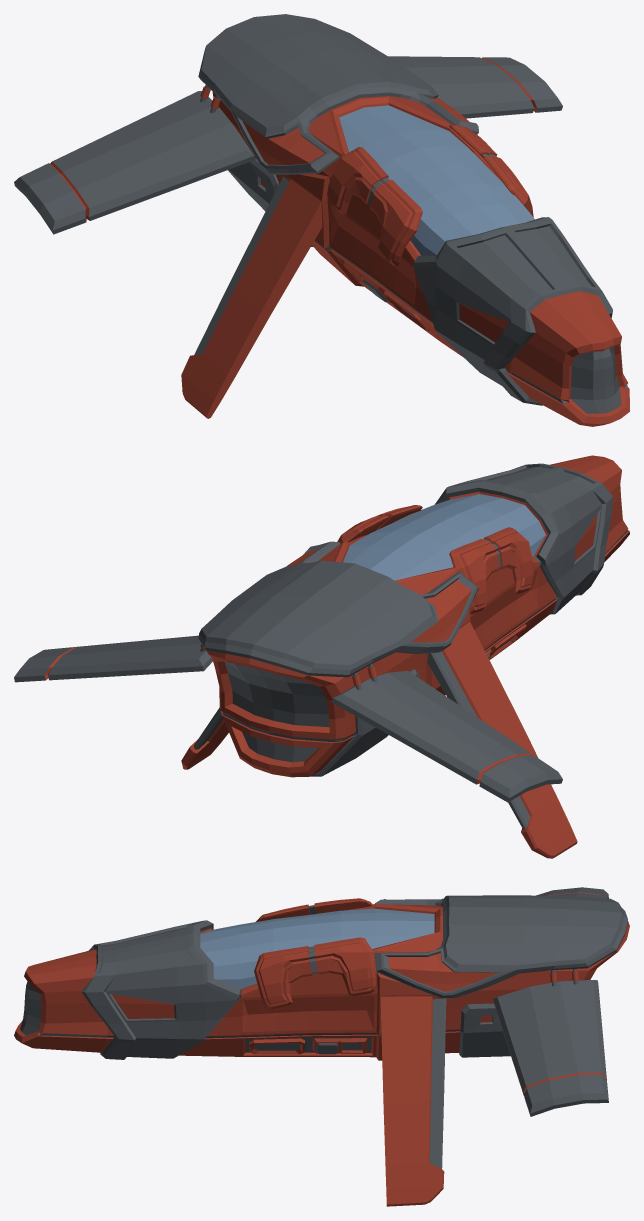
The model's file is Fighter_06_Red.fbx.
3 renders of one model, top to bottom at view 1: azimuth 30°, elevation 25°; view 2: azimuth 150°, elevation 25°; view 3: azimuth 270°, elevation 25°, orthographic. The views are drawn at different scales.
Parts seen in each view (by area): view 1: Fighter_06_Red; view 2: Fighter_06_Red; view 3: Fighter_06_Red.
Boxes of the visible parts, x1=… form: Fighter_06_Red: x1=14, y1=14, x2=629, y2=426; Fighter_06_Red: x1=14, y1=455, x2=629, y2=858; Fighter_06_Red: x1=14, y1=887, x2=629, y2=1206.
Bounding box in the file's own units: 1051 × 517 × 1291.
Materials: 3 (3 with a texture image).
